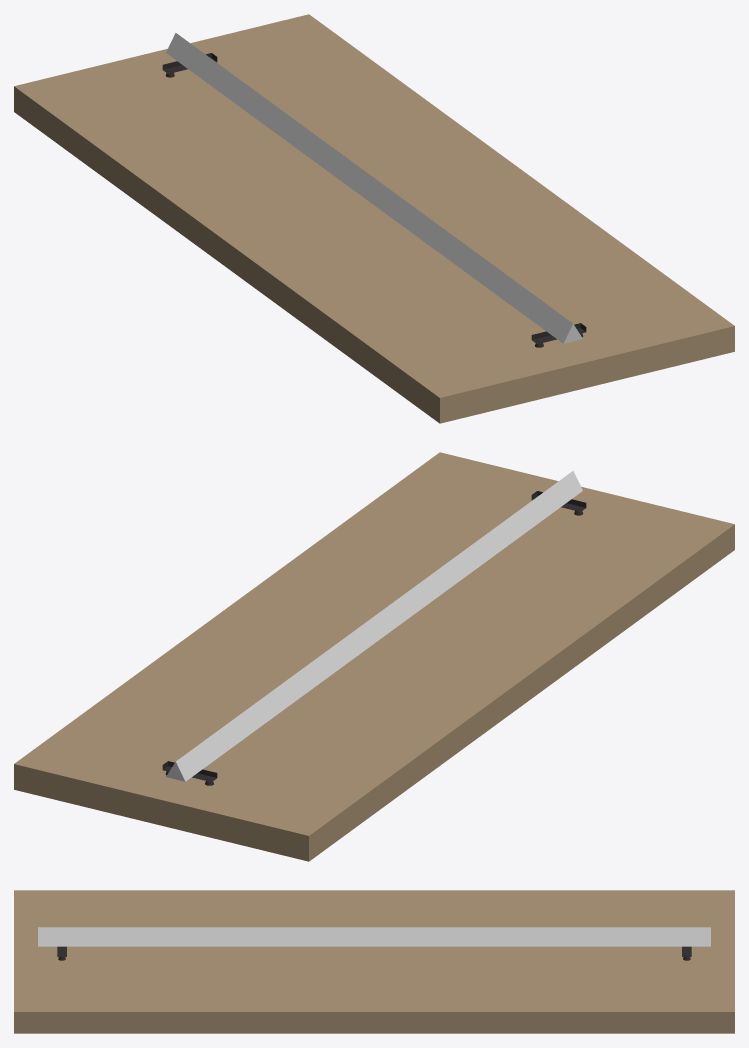
File: rail.glb
3 views of the same model, one above another, from view 1: azimuth 30°, elevation 25°; view 2: azimuth 150°, elevation 25°; view 3: azimuth 270°, elevation 25° (orthographic). The views are drawn at different scales.
Parts seen in each view (by area): view 1: table, poutre; view 2: table, poutre; view 3: table, poutre.
Part boxes in pixels (x1,y1,x2,y2): table: (14, 14, 734, 423); poutre: (162, 33, 586, 347); table: (14, 452, 734, 861); poutre: (162, 471, 586, 785); table: (14, 890, 734, 1033); poutre: (38, 927, 710, 960).
Size of the model in its own units: 0.6 by 0.1045 by 1.5.
